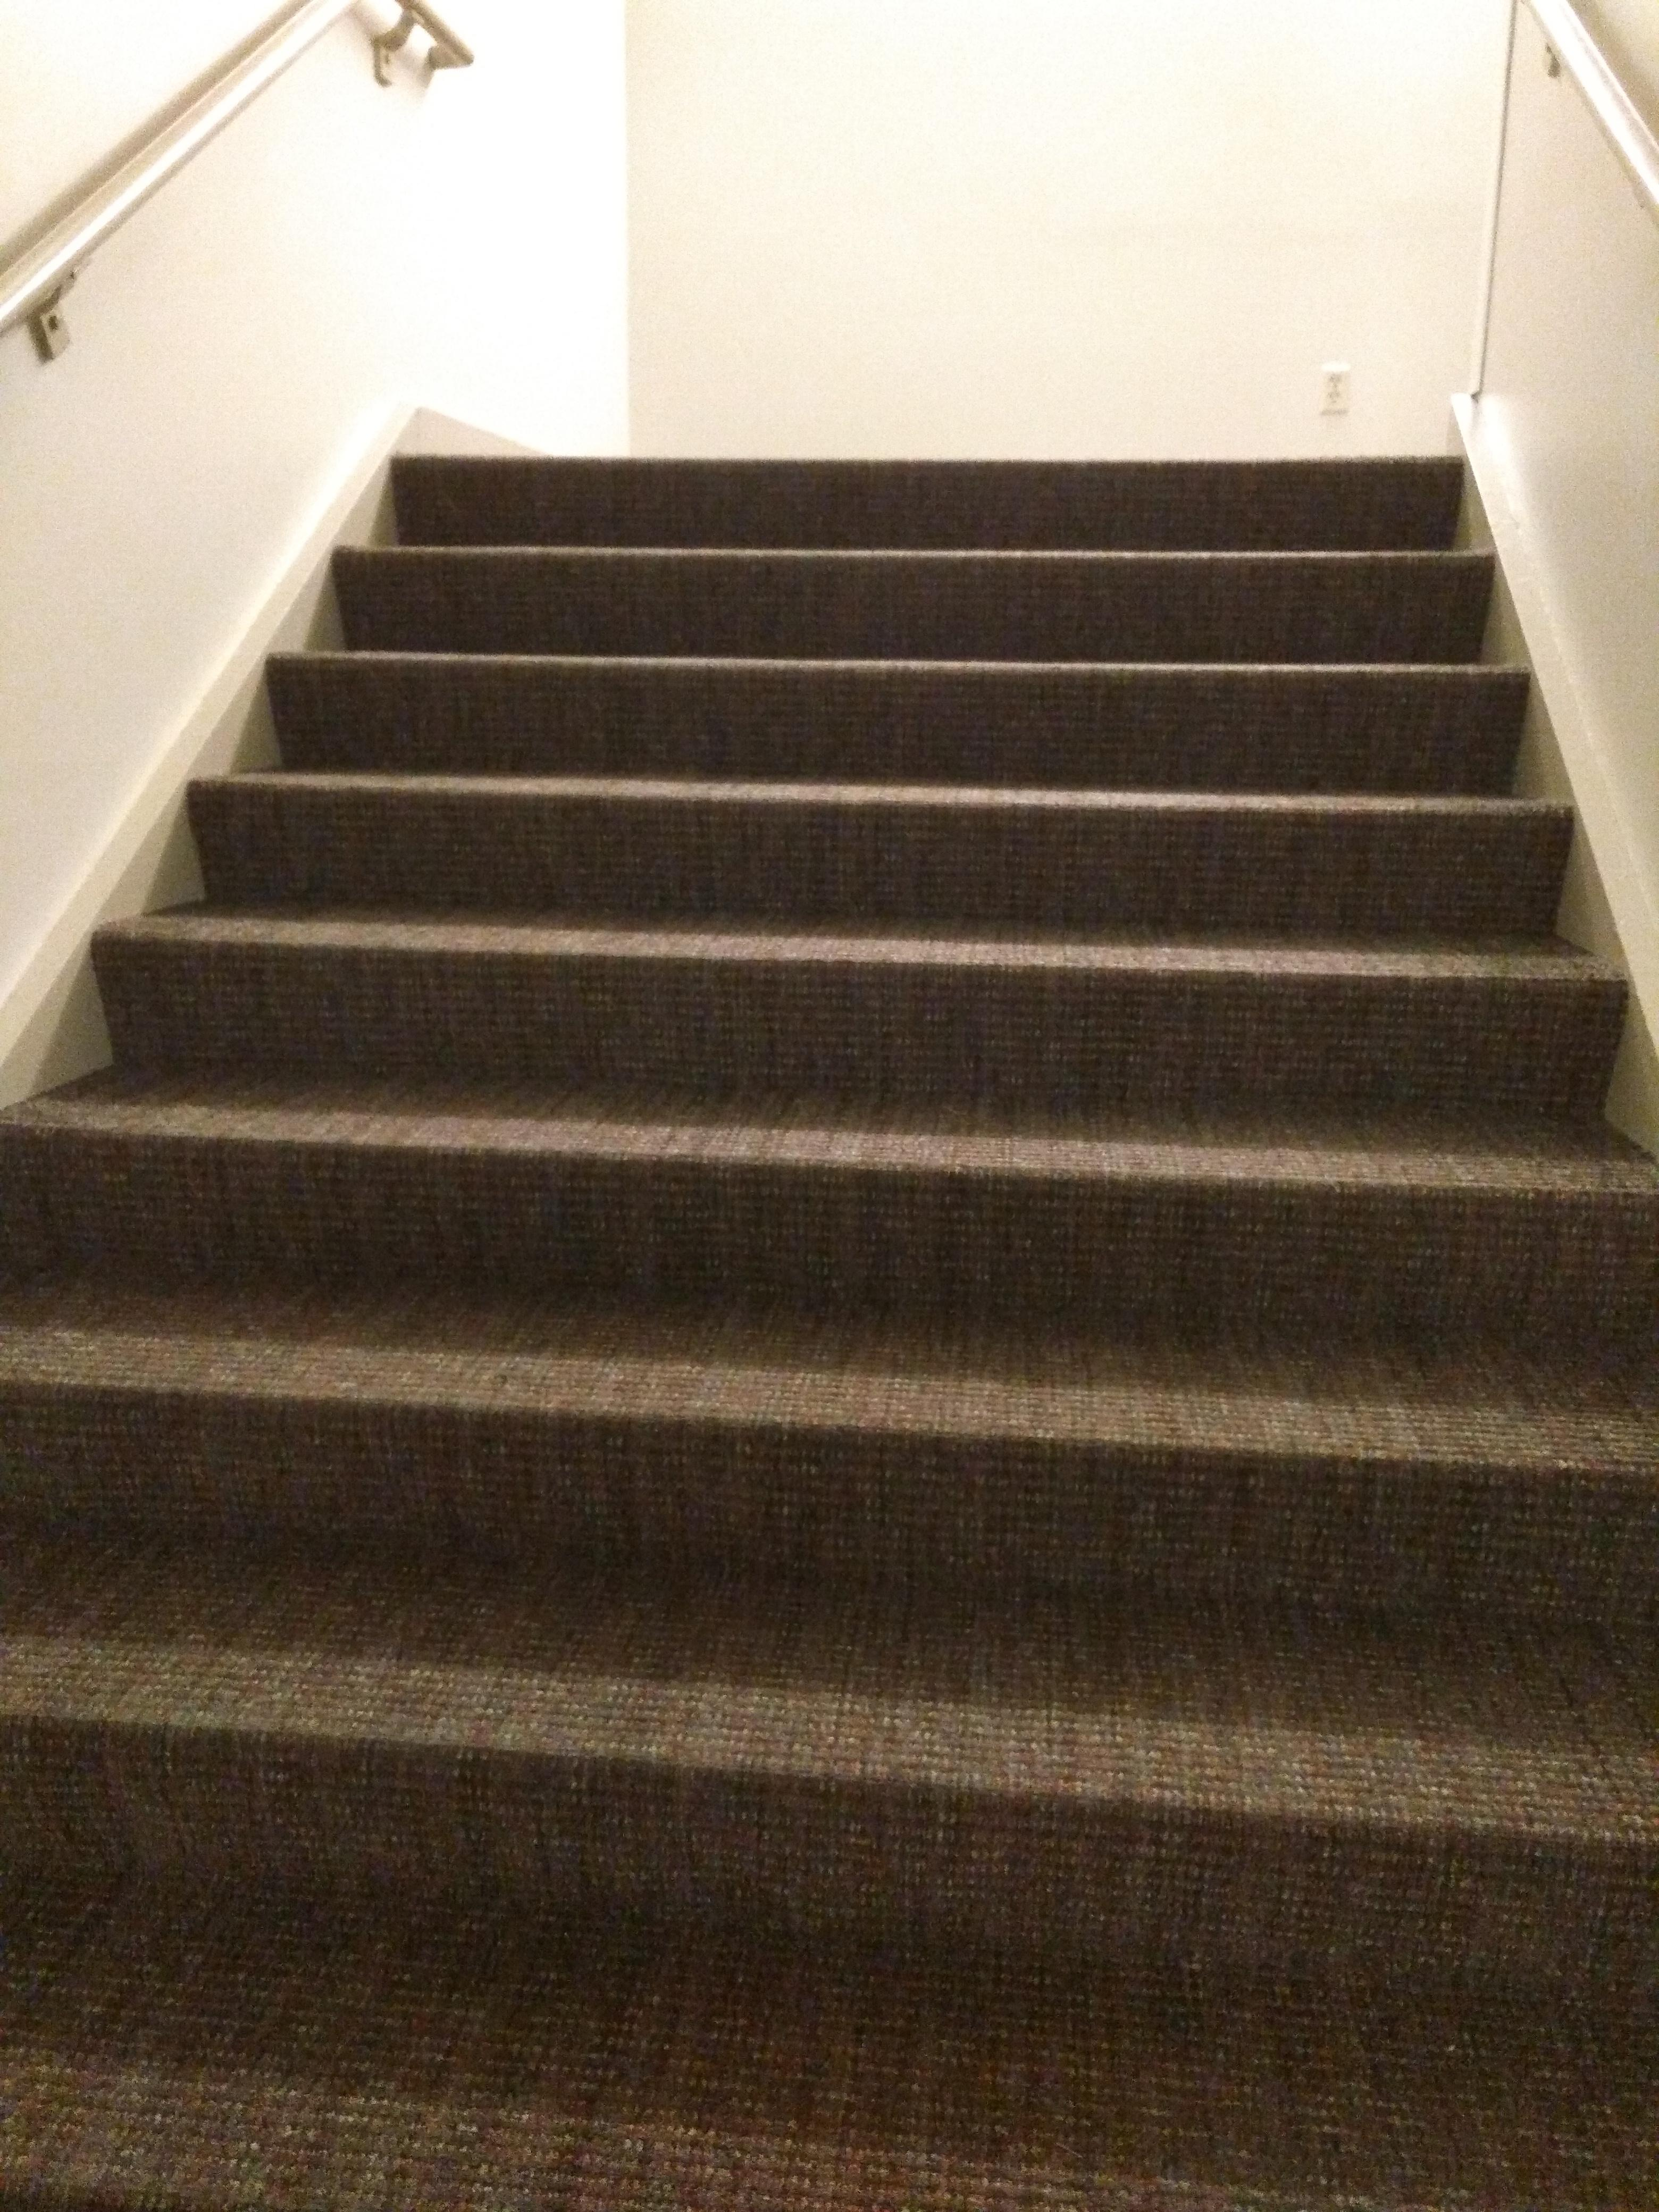stairs_up: (17, 435, 1659, 1958)
